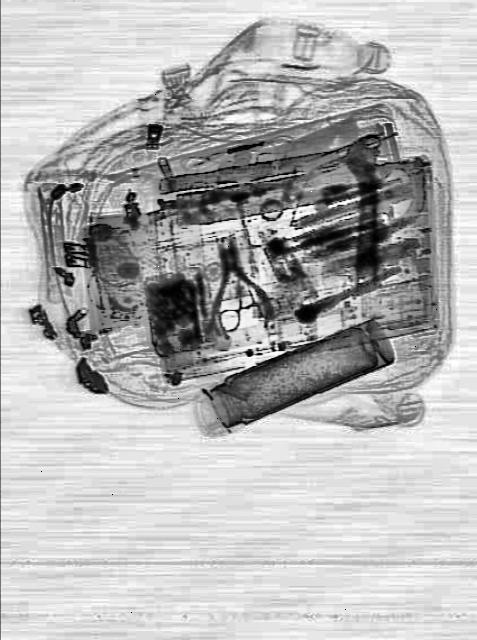Pliers: (193, 231, 277, 341)
